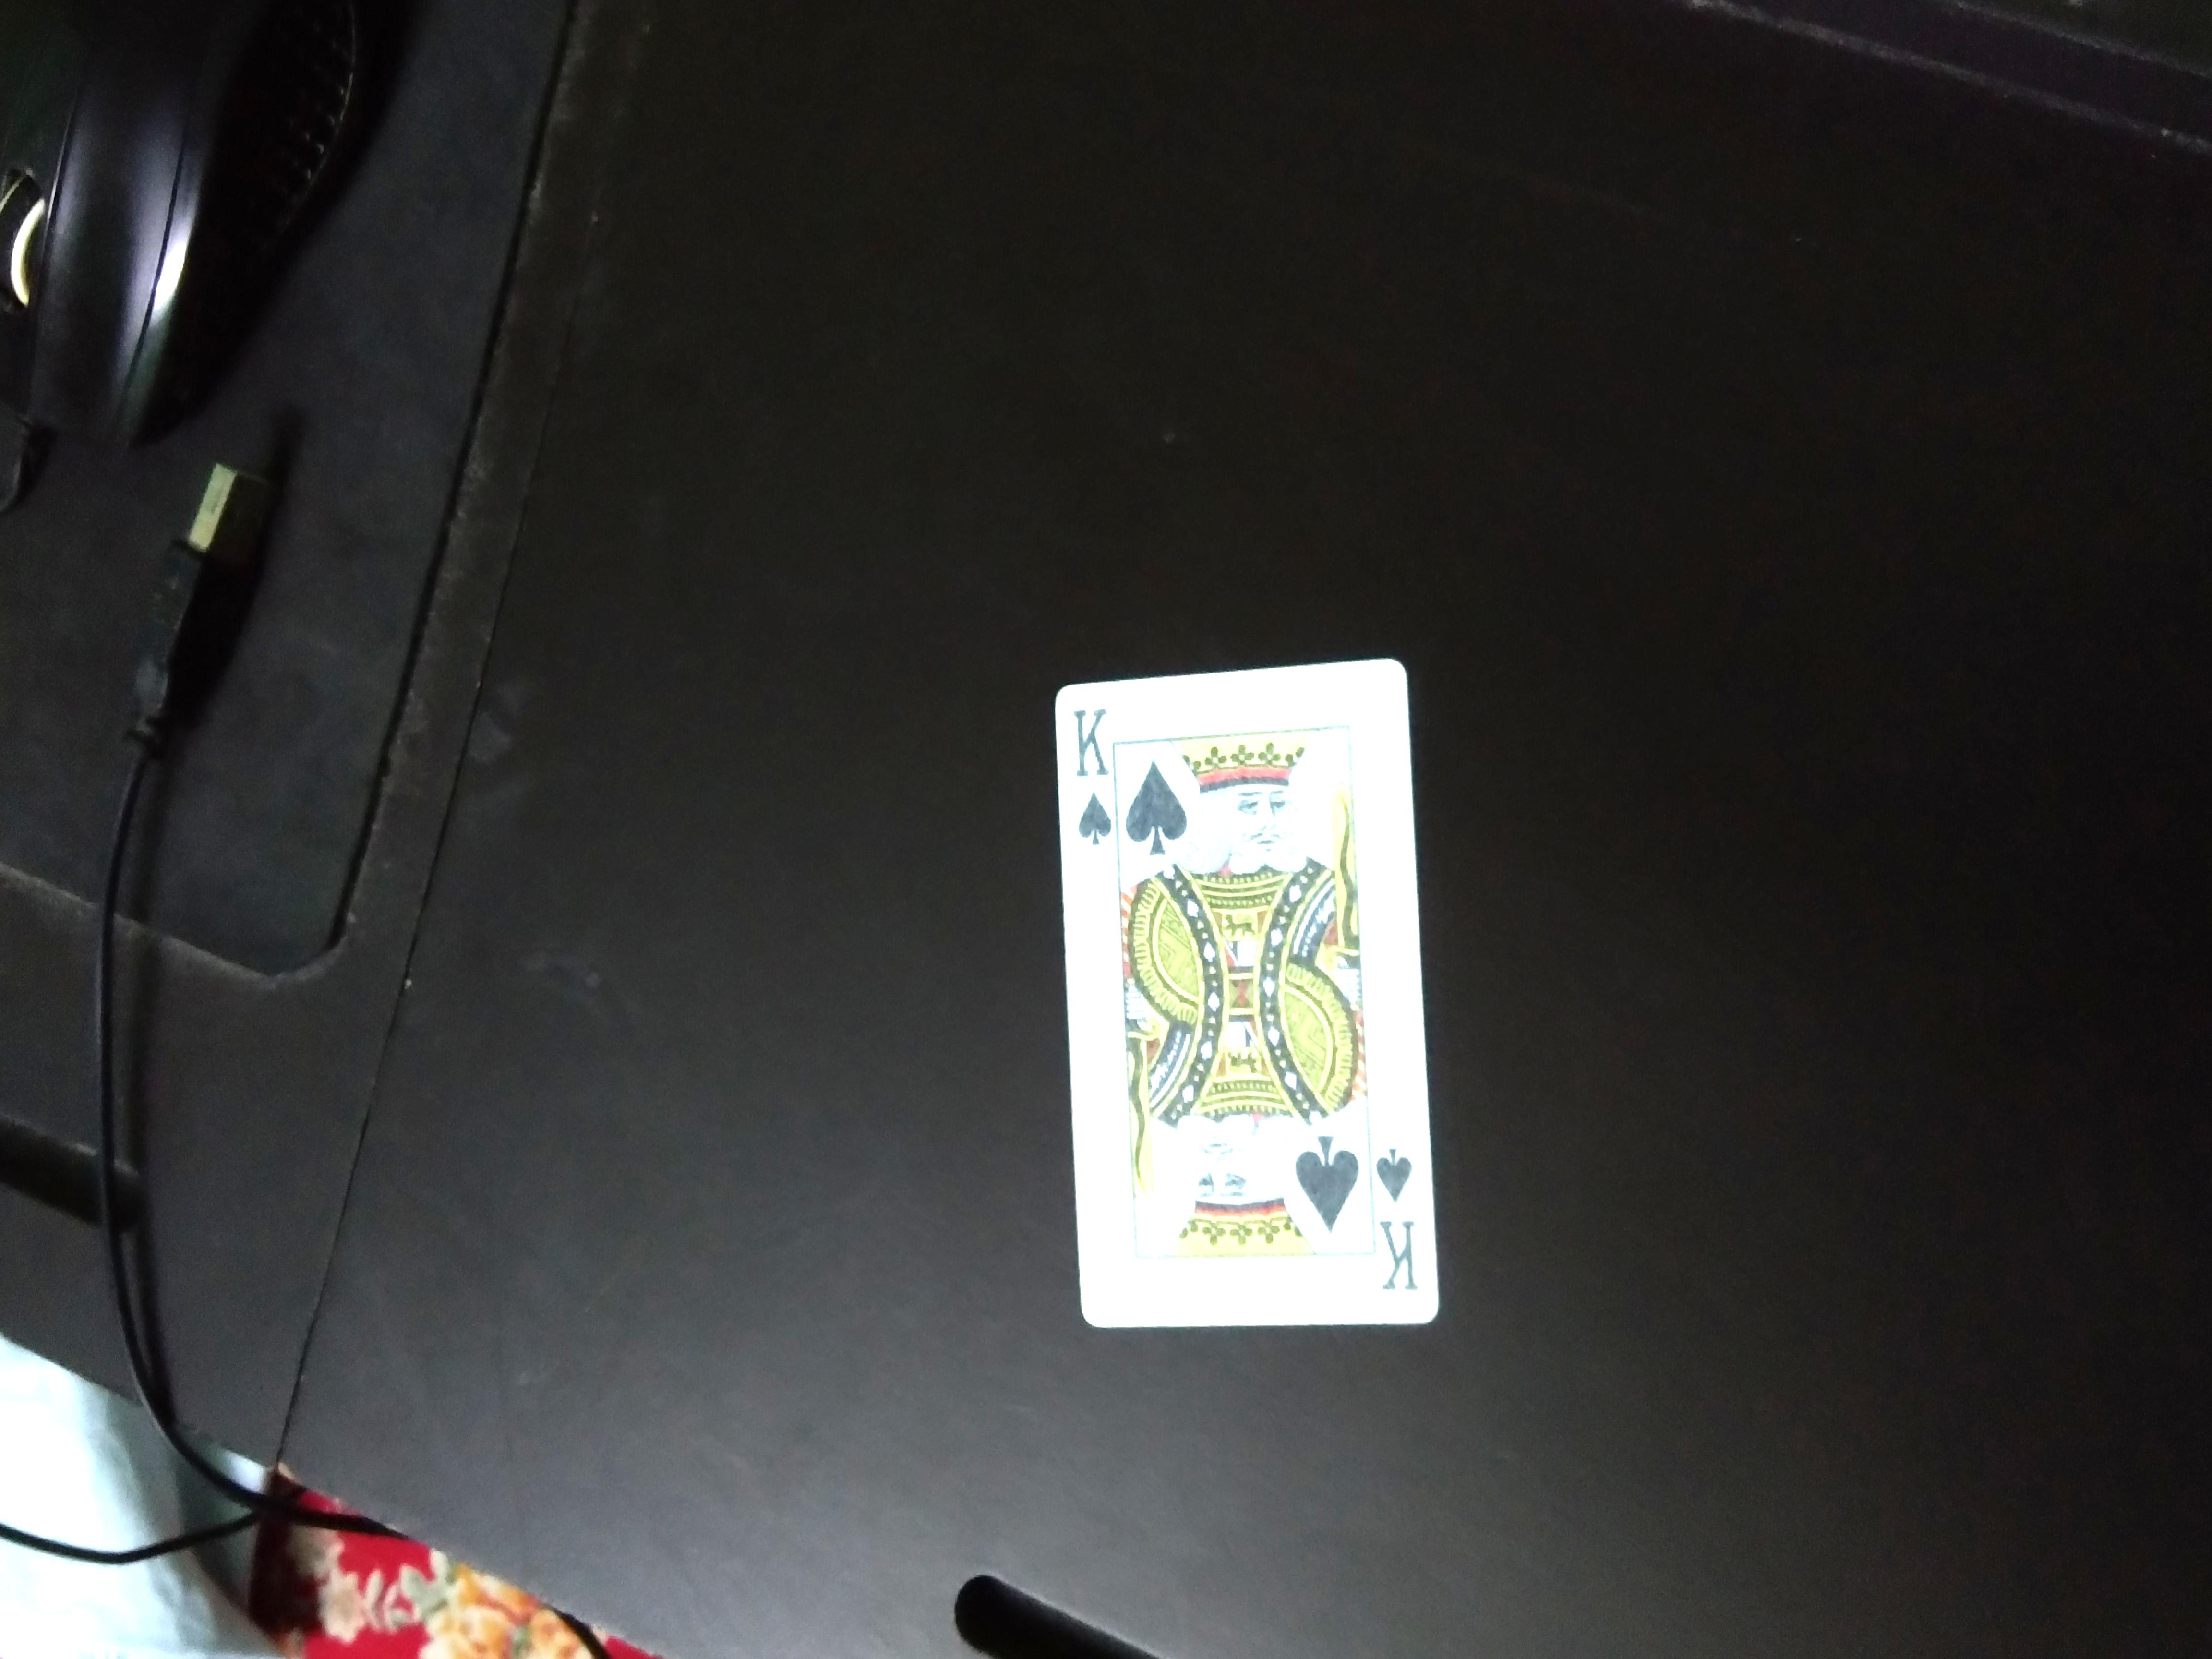KS: (1062, 685, 1116, 847)
